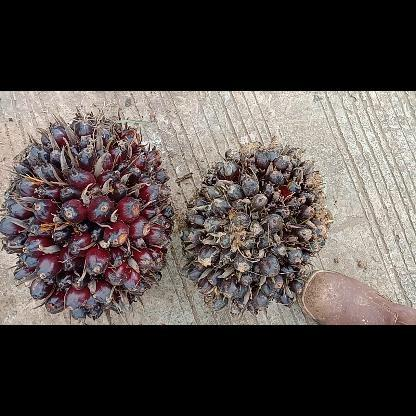TBS mentah: (0, 108, 176, 319), (176, 140, 336, 314)
